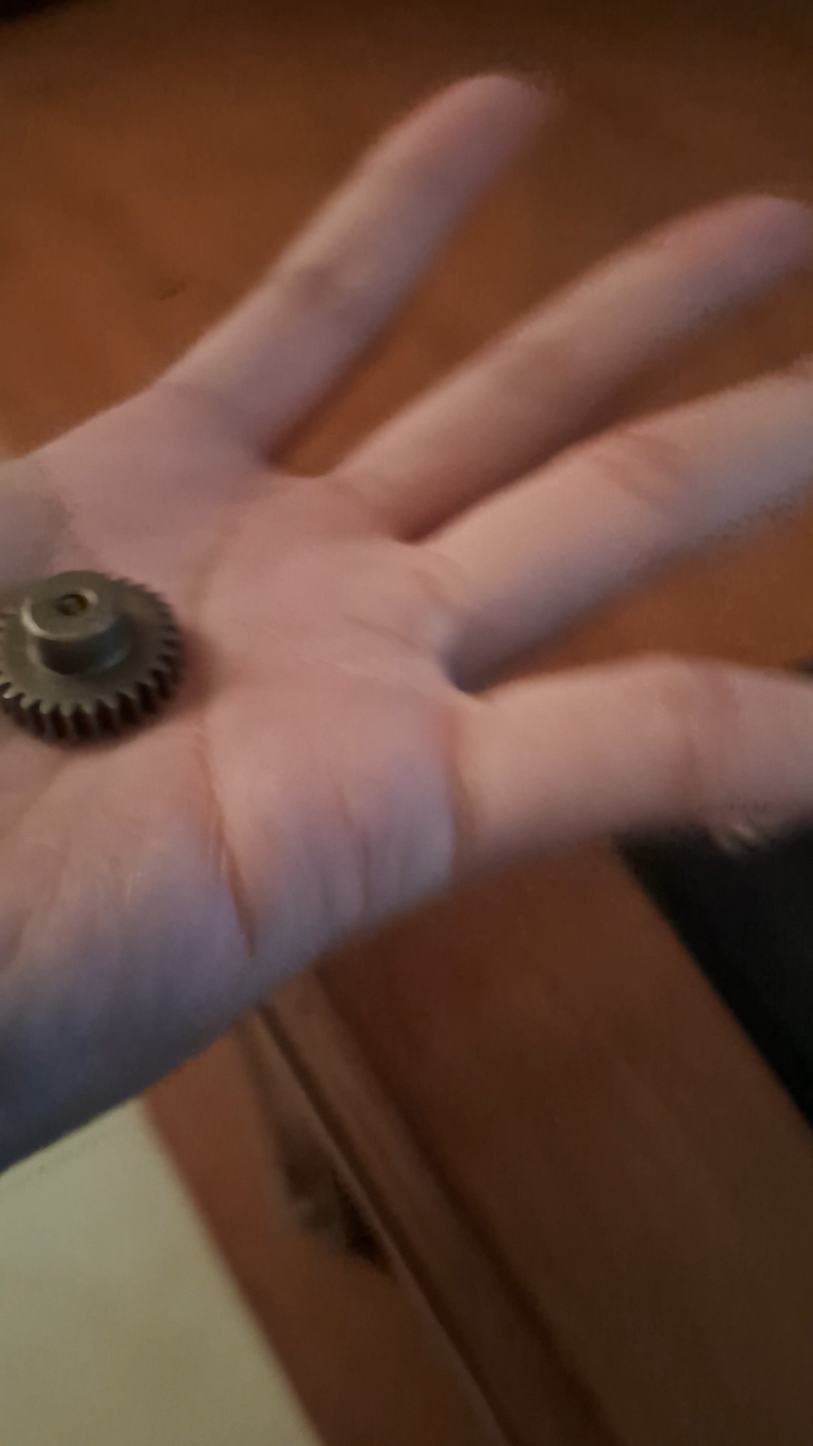spur gear: (0, 571, 181, 742)
